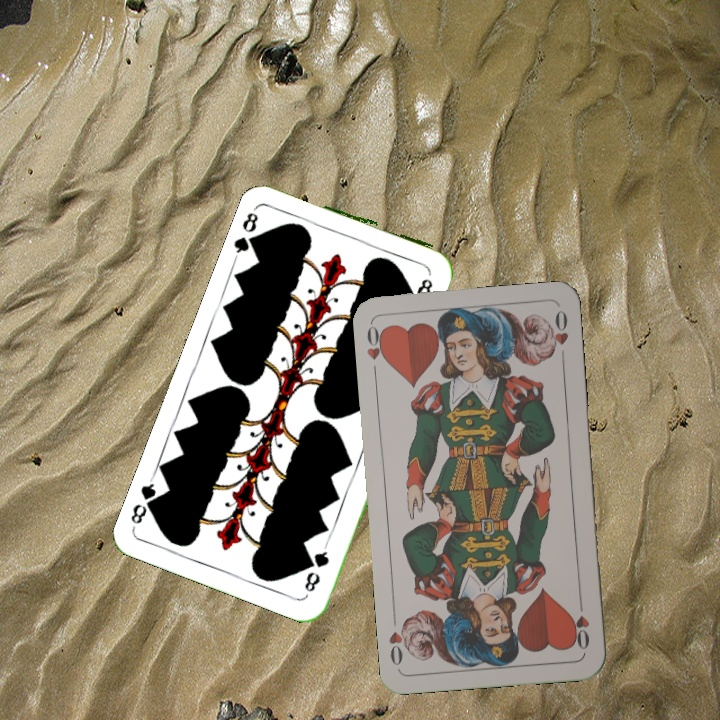G8: (230, 202, 264, 259), (300, 540, 332, 595)
HO: (362, 321, 390, 379), (569, 595, 592, 652)
